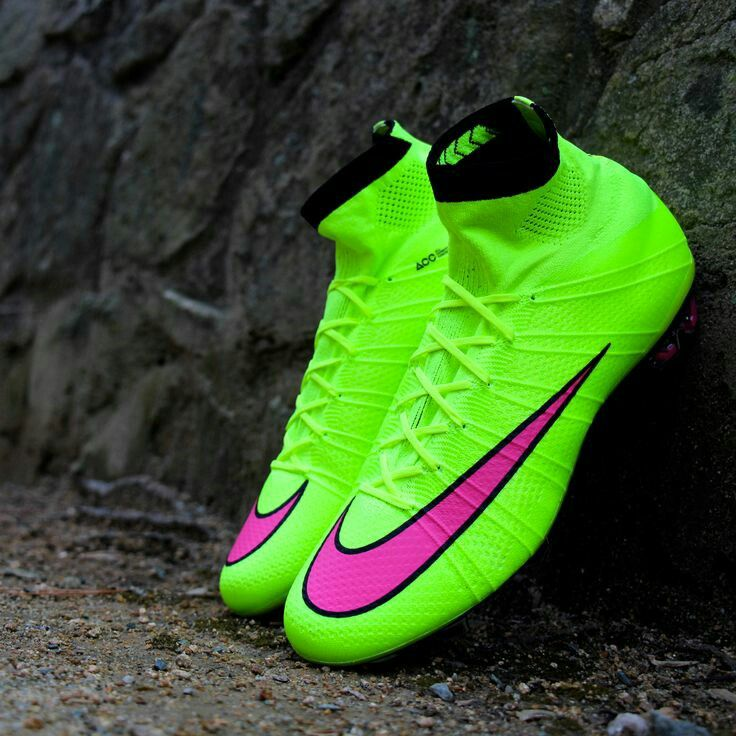football boots: (281, 126, 694, 670), (218, 120, 430, 615)
